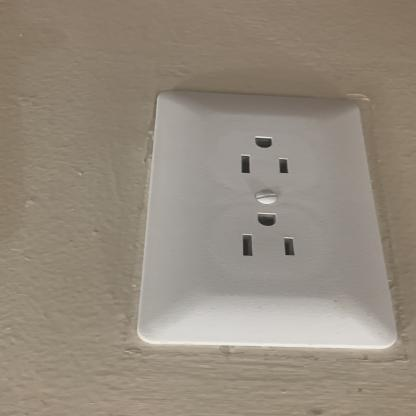OUTLET: (136, 92, 400, 350)
